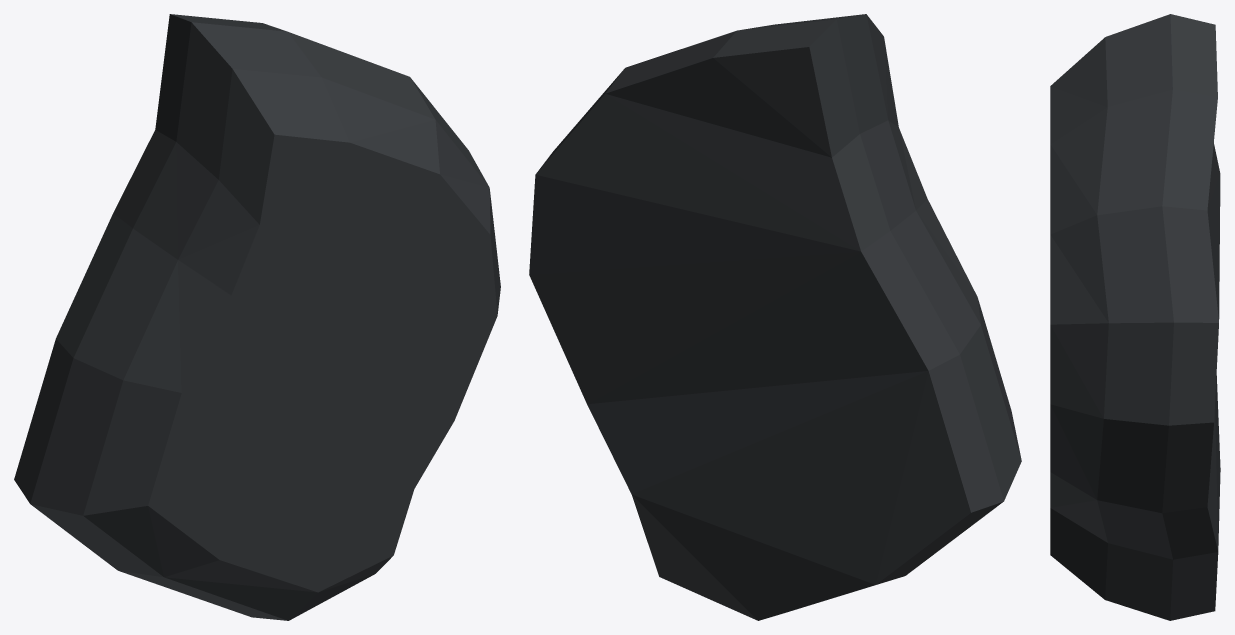
File: FERNSTONE_SPARK.shadow.glb
3 views of the same model, side by side, from view 1: azimuth 30°, elevation 25°; view 2: azimuth 150°, elevation 25°; view 3: azimuth 270°, elevation 25° (orthographic). The views are drawn at different scales.
Visible parts, largest first — view 1: Body_Mesh; view 2: Body_Mesh; view 3: Body_Mesh.
Part boxes in pixels (<box>): Body_Mesh: <box>14,14,500,620</box>; Body_Mesh: <box>529,14,1021,620</box>; Body_Mesh: <box>1050,14,1220,620</box>.
Bounding box in the file's own units: 0.2886 × 0.3697 × 0.1018.
1 material, 1 textured.
